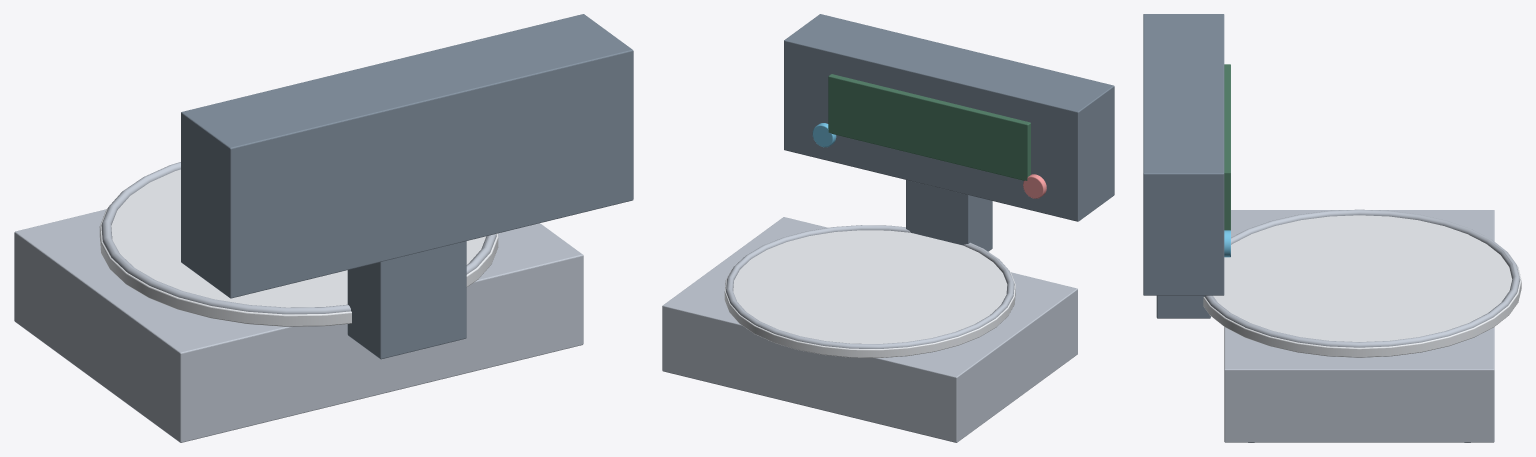
Rendered from balance.glb.
The picture shows the model from 3 angles, left to right: view 1: azimuth 30°, elevation 25°; view 2: azimuth 150°, elevation 25°; view 3: azimuth 270°, elevation 25°; orthographic projection. The views are drawn at different scales.
Visible parts, largest first — view 1: balance; view 2: balance; view 3: balance.
Boxes of the visible parts, x1,y1,x2,y2 form: balance: (14,14,633,442); balance: (662,14,1114,442); balance: (1143,14,1521,442).
Bounding box in the file's own units: 1.4 × 1.12 × 1.4.
